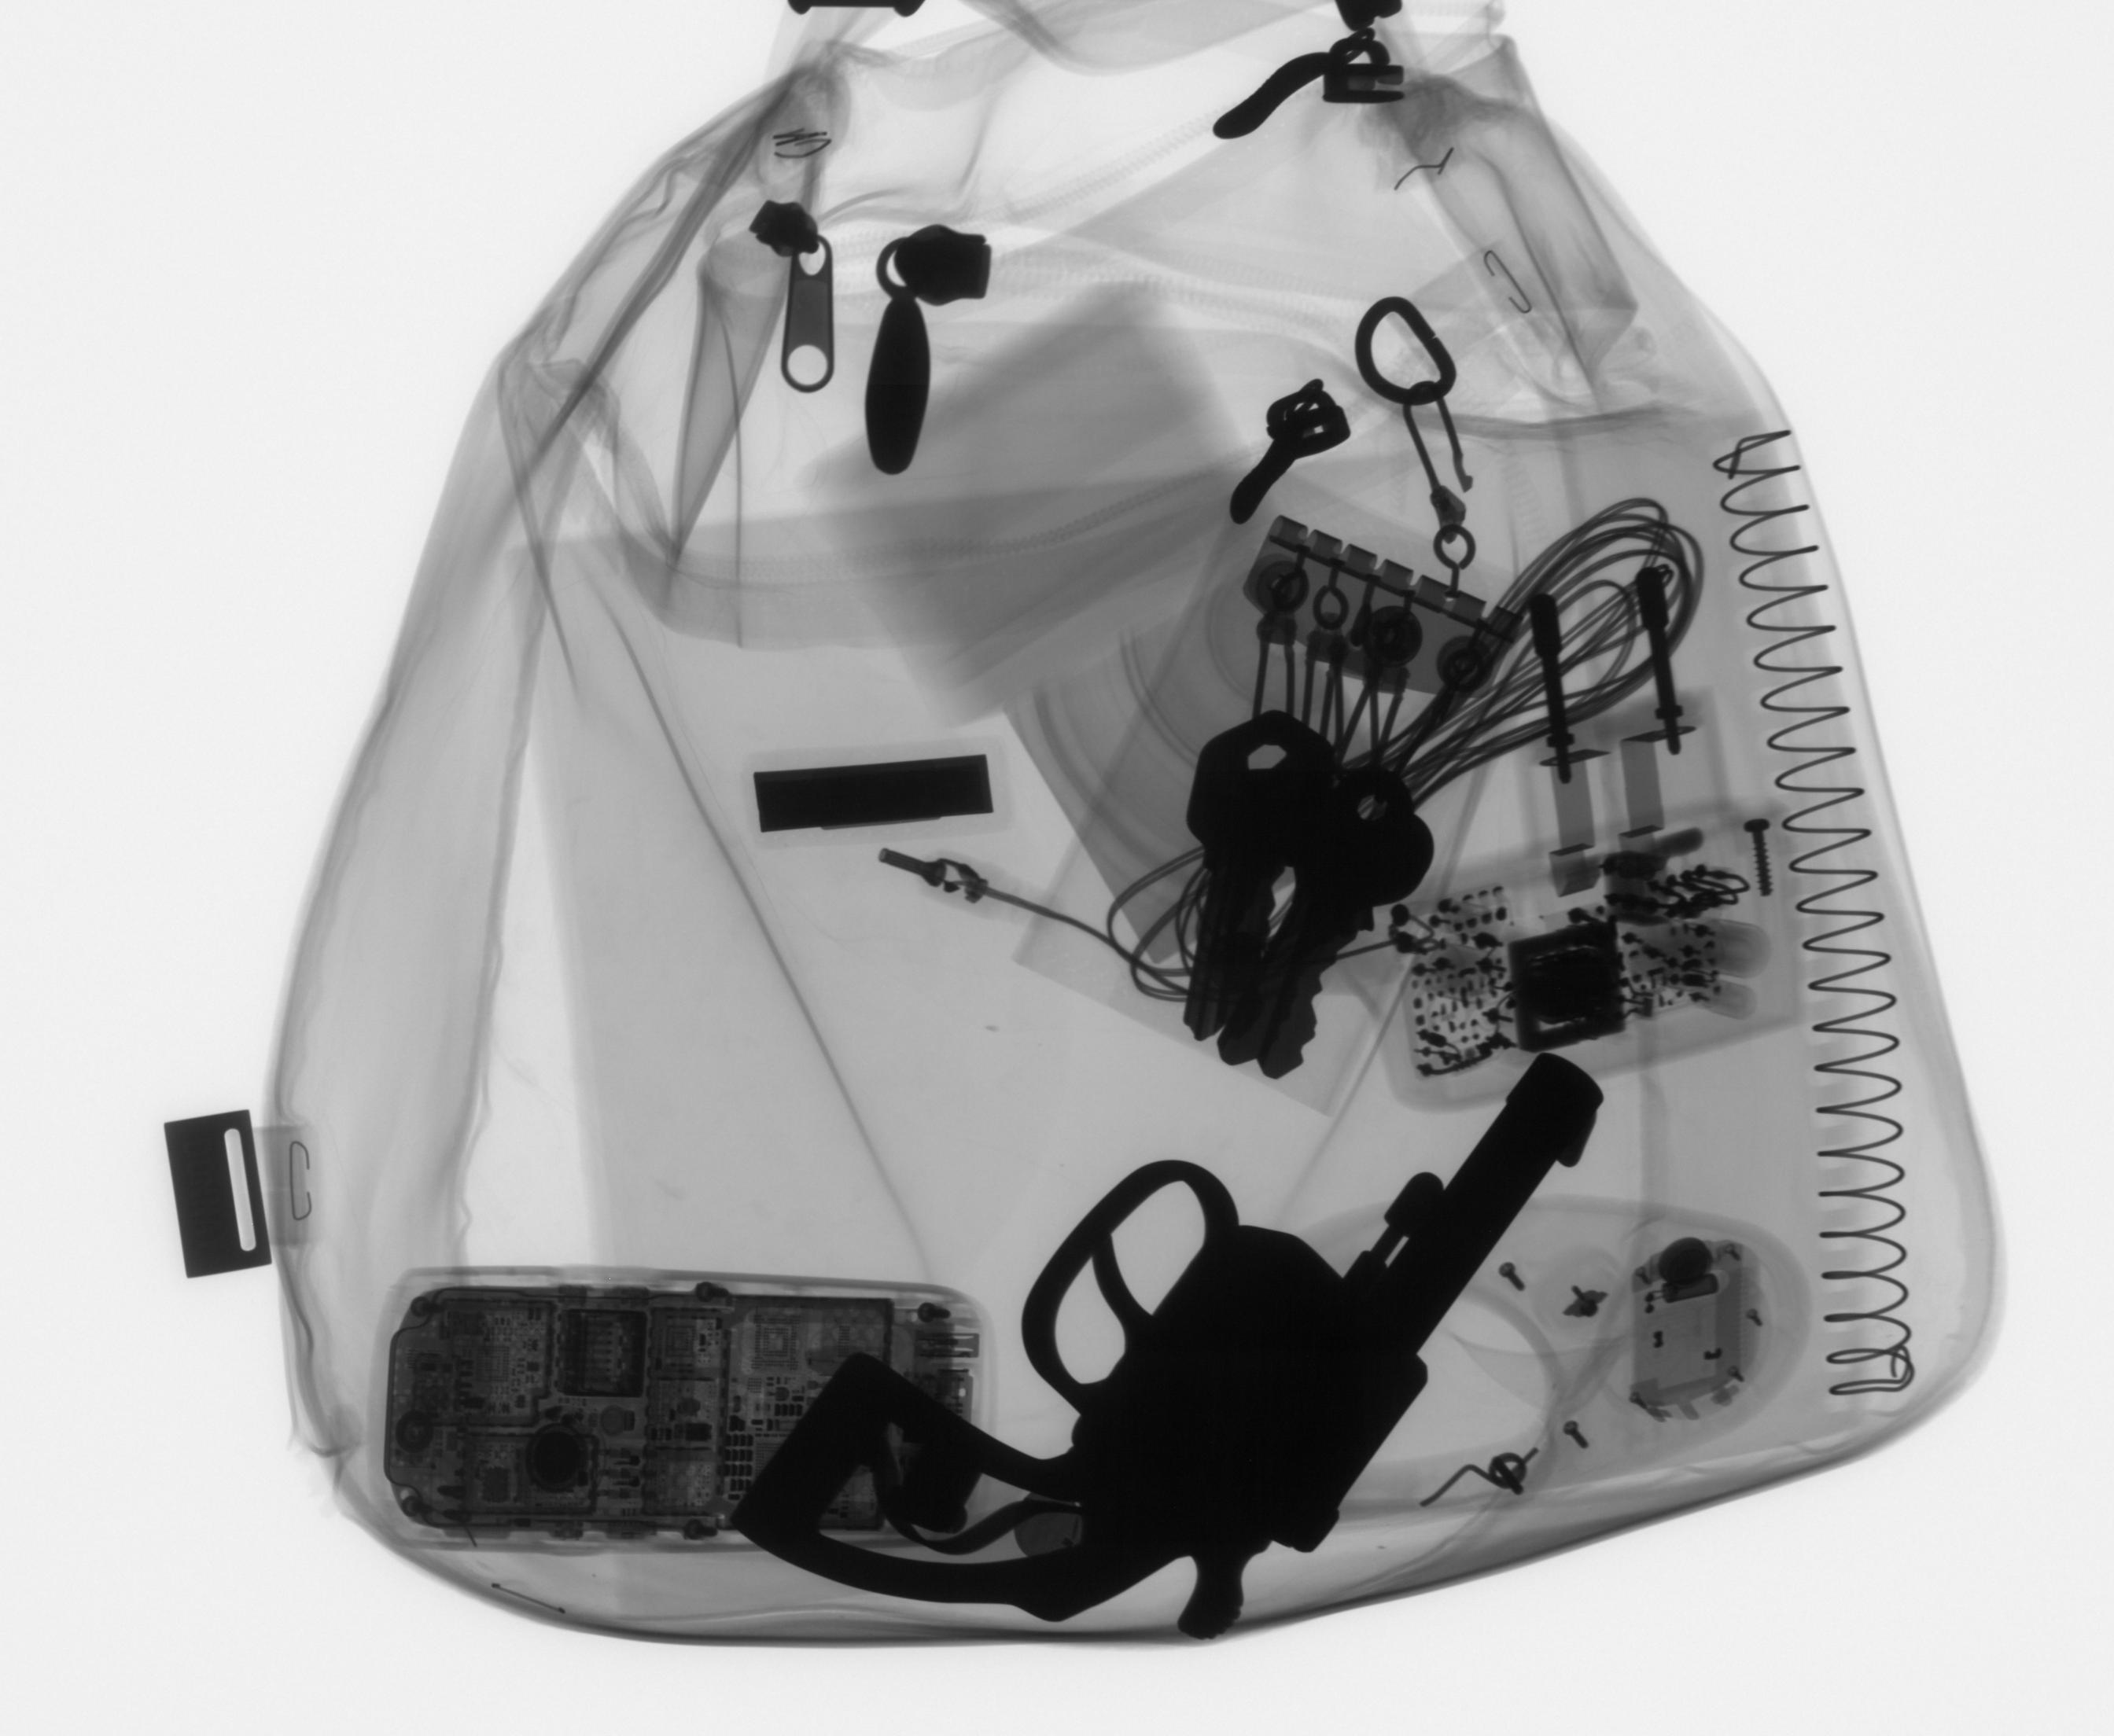Handgun: (718, 1046, 1609, 1649)
